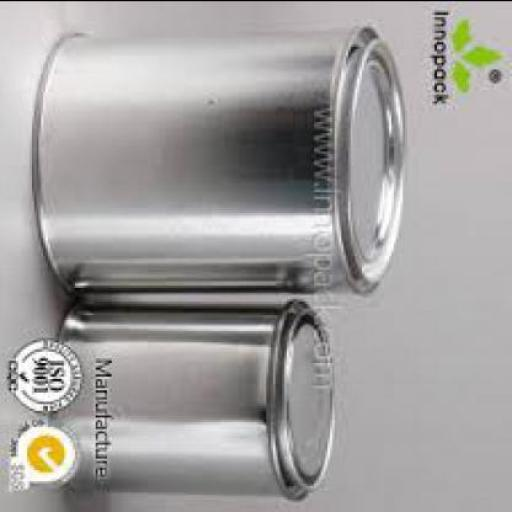metal: (36, 22, 408, 294), (50, 296, 339, 498)
